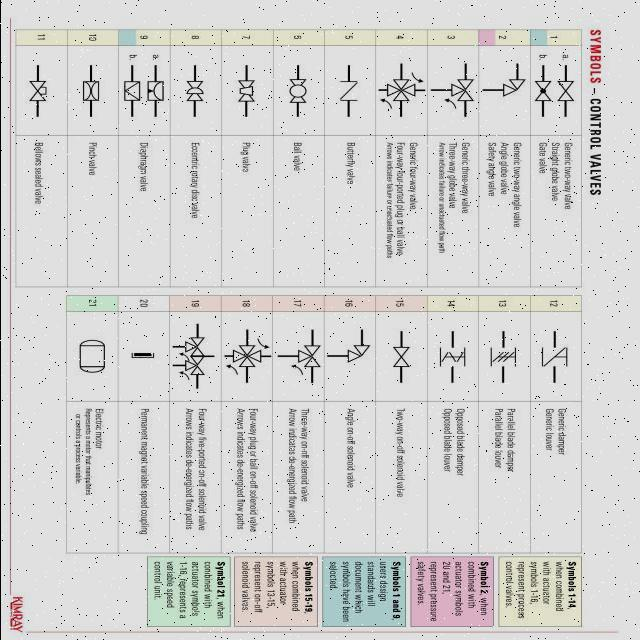3 Way Gate Valve: (291, 334, 324, 370), (446, 74, 476, 108)
4 Way Gate Valve: (384, 75, 416, 106), (231, 344, 267, 368)
Angle Valve: (340, 342, 375, 365), (499, 74, 528, 100)
Ball Valve: (282, 73, 312, 107)
Butterfly Valve: (333, 74, 367, 104)
Gate Valve: (556, 78, 576, 102)
Globe Valve: (532, 78, 554, 102)
Plug Valve: (230, 69, 266, 110)
